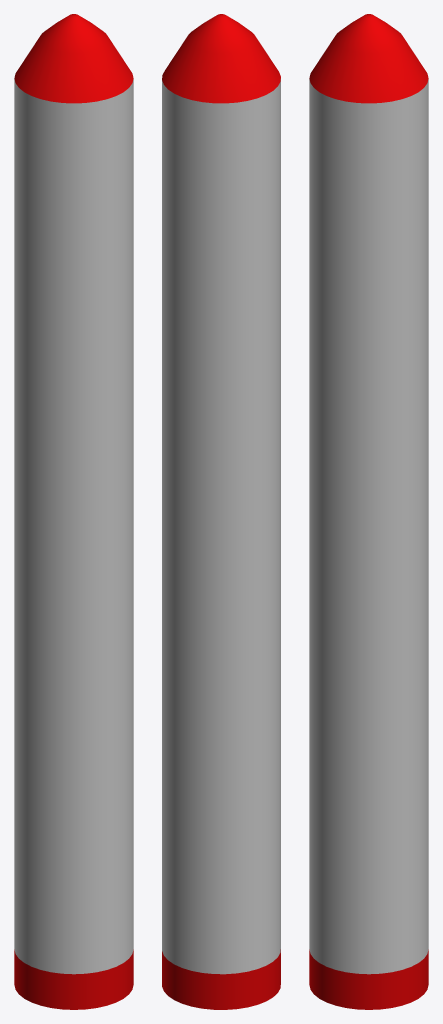
The model's file is Pen.fbx.
3 views of the same model, side by side, from view 1: azimuth 90°, elevation 25°; view 2: azimuth 150°, elevation 25°; view 3: azimuth 270°, elevation 25° (orthographic).
Parts seen in each view (by area): view 1: Cylinder; view 2: Cylinder; view 3: Cylinder.
Boxes of the visible parts, x1=… form: Cylinder: x1=14, y1=14, x2=133, y2=1009; Cylinder: x1=162, y1=14, x2=280, y2=1009; Cylinder: x1=309, y1=14, x2=428, y2=1009.
Size of the model in its own units: 24.81 by 222 by 24.81.
